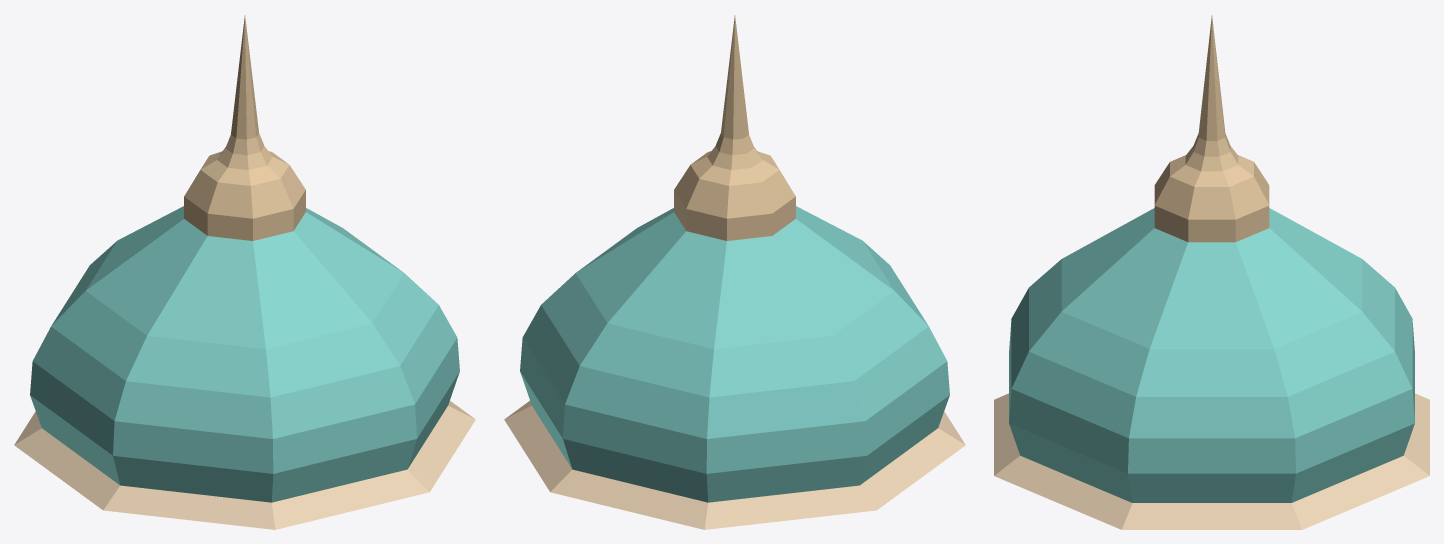
3 renders of one model, left to right at view 1: azimuth 30°, elevation 25°; view 2: azimuth 150°, elevation 25°; view 3: azimuth 270°, elevation 25°, orthographic.
Parts seen in each view (by area): view 1: object1.002; view 2: object1.002; view 3: object1.002.
Boxes of the visible parts, x1=… form: object1.002: x1=14, y1=15, x2=475, y2=529; object1.002: x1=504, y1=15, x2=965, y2=529; object1.002: x1=994, y1=15, x2=1429, y2=529.
Size of the model in its own units: 3.75 by 4.1 by 3.75.
